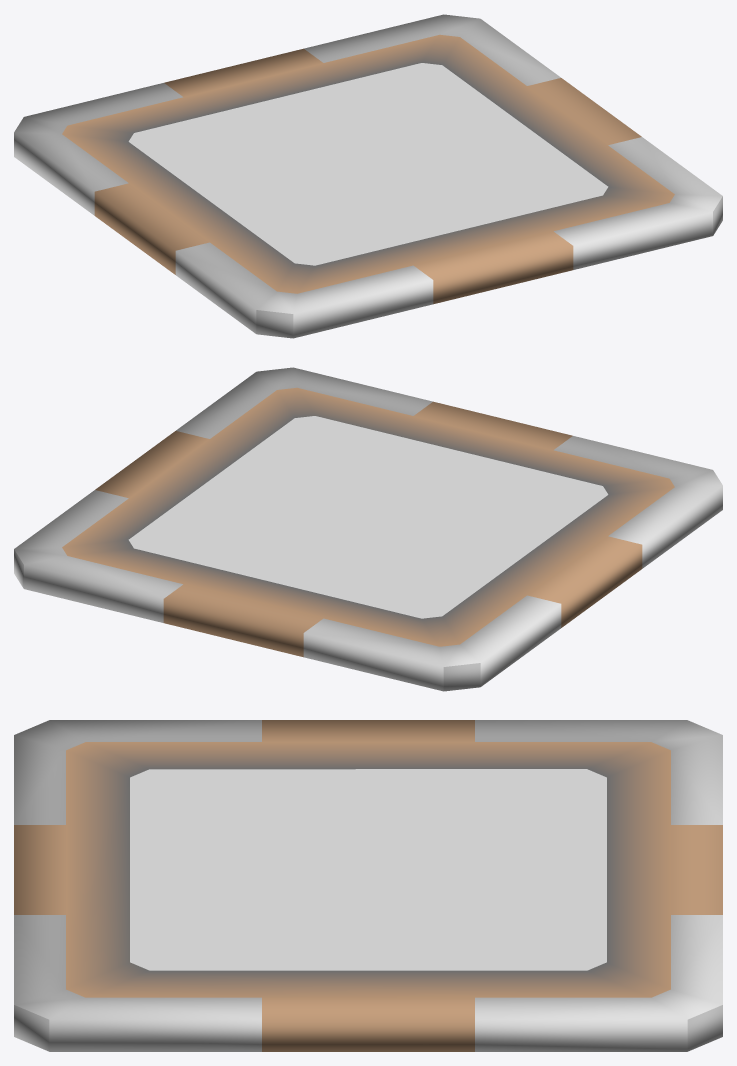
The model's file is SpacePlatform.gltf.
The picture shows the model from 3 angles, top to bottom: view 1: azimuth 30°, elevation 25°; view 2: azimuth 150°, elevation 25°; view 3: azimuth 270°, elevation 25°; orthographic projection. The views are drawn at different scales.
Parts seen in each view (by area): view 1: SpacePlatformMesh; view 2: SpacePlatformMesh; view 3: SpacePlatformMesh.
Boxes of the visible parts, x1,y1,x2,y2 form: SpacePlatformMesh: (14,14,722,338); SpacePlatformMesh: (14,367,722,691); SpacePlatformMesh: (14,720,722,1051).
Size of the model in its own units: 5 by 0.25 by 5.
